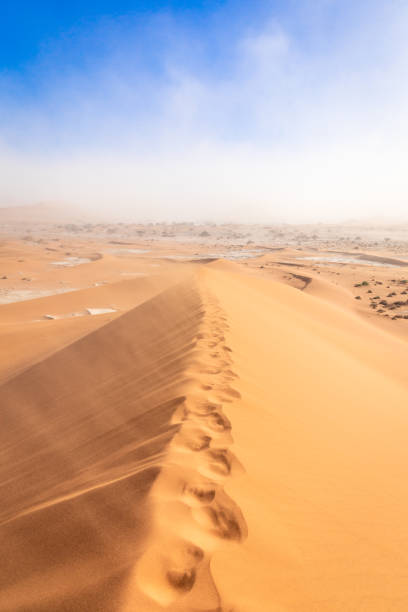human_footprint: (139, 297, 245, 609)
